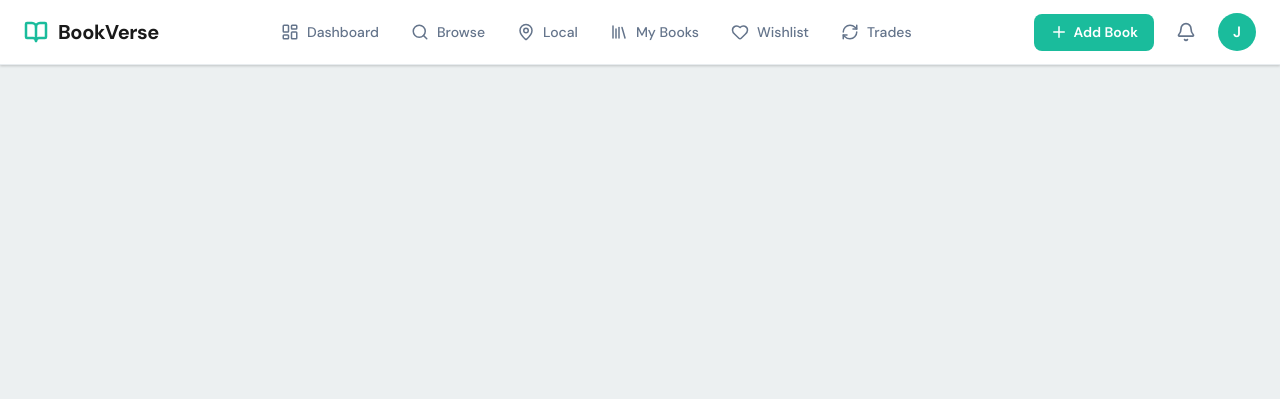
Navbar - Unified Component › Authenticated Navigation › opens profile dropdown when clicked
Click the button "J". click: x=1237, y=32
box: [1218, 13, 1256, 51]
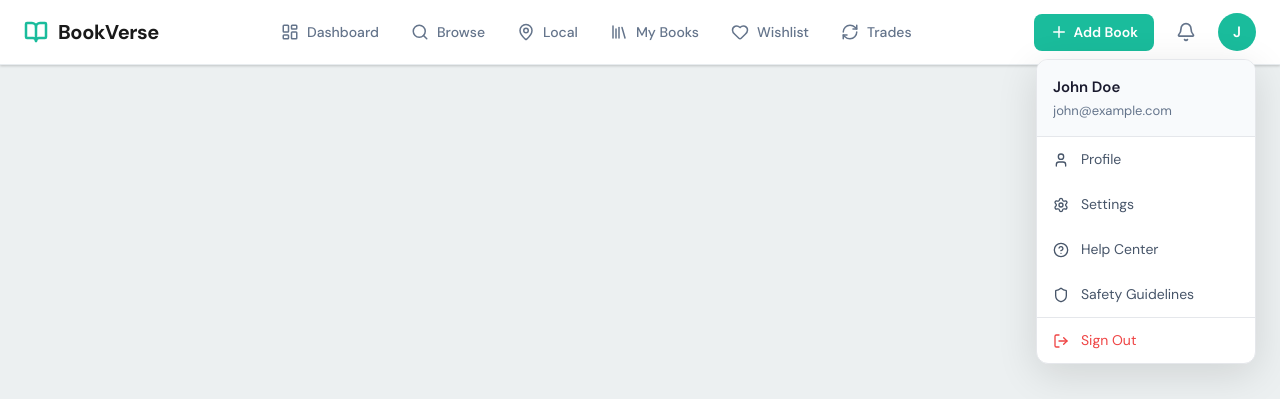
Result: the link "Profile" is shown at [1053, 150, 1121, 168]
Result: the link "Settings" is shown at [1053, 195, 1134, 213]
Result: the link "Safety Guidelines" is shown at [1053, 285, 1194, 303]
